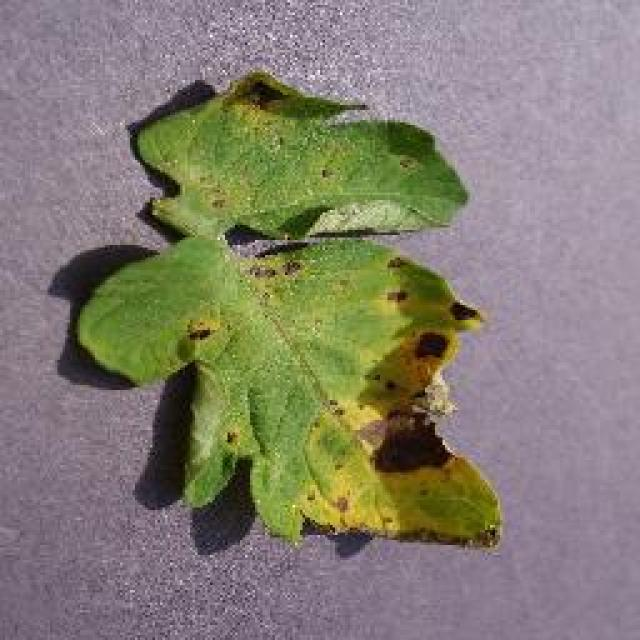Tomato___Septoria_leaf_spot: (78, 72, 500, 545)
